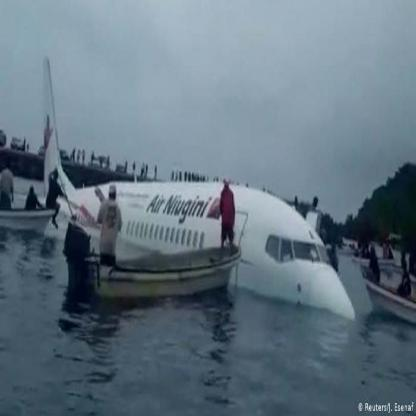CIV_Plane: (31, 49, 360, 329)
